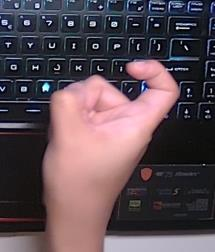anticlockwise: (38, 55, 184, 204)
